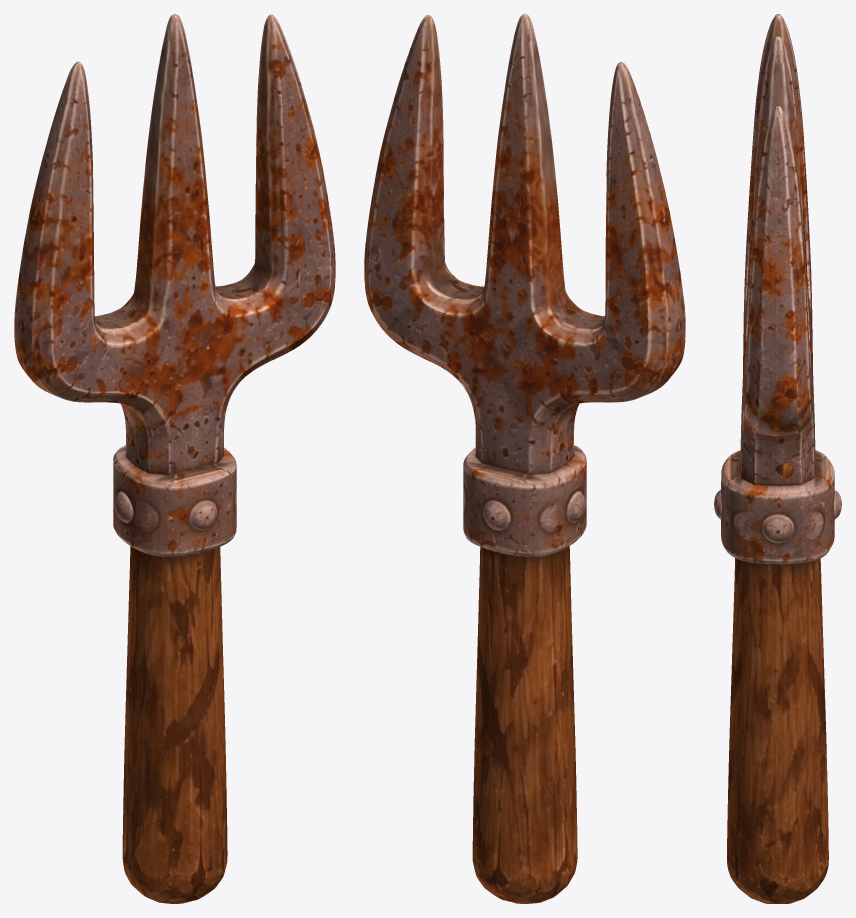
The model's file is fork.glb.
The picture shows the model from 3 angles, left to right: view 1: azimuth 30°, elevation 25°; view 2: azimuth 150°, elevation 25°; view 3: azimuth 270°, elevation 25°; orthographic projection. The views are drawn at different scales.
Visible parts, largest first — view 1: Mesh_0; view 2: Mesh_0; view 3: Mesh_0.
Boxes of the visible parts, x1,y1,x2,y2 form: Mesh_0: (14,14,335,903); Mesh_0: (364,14,685,903); Mesh_0: (714,14,841,903).
Bounding box in the file's own units: 0.6962 × 1.9 × 0.2564.
1 material, 1 textured.
